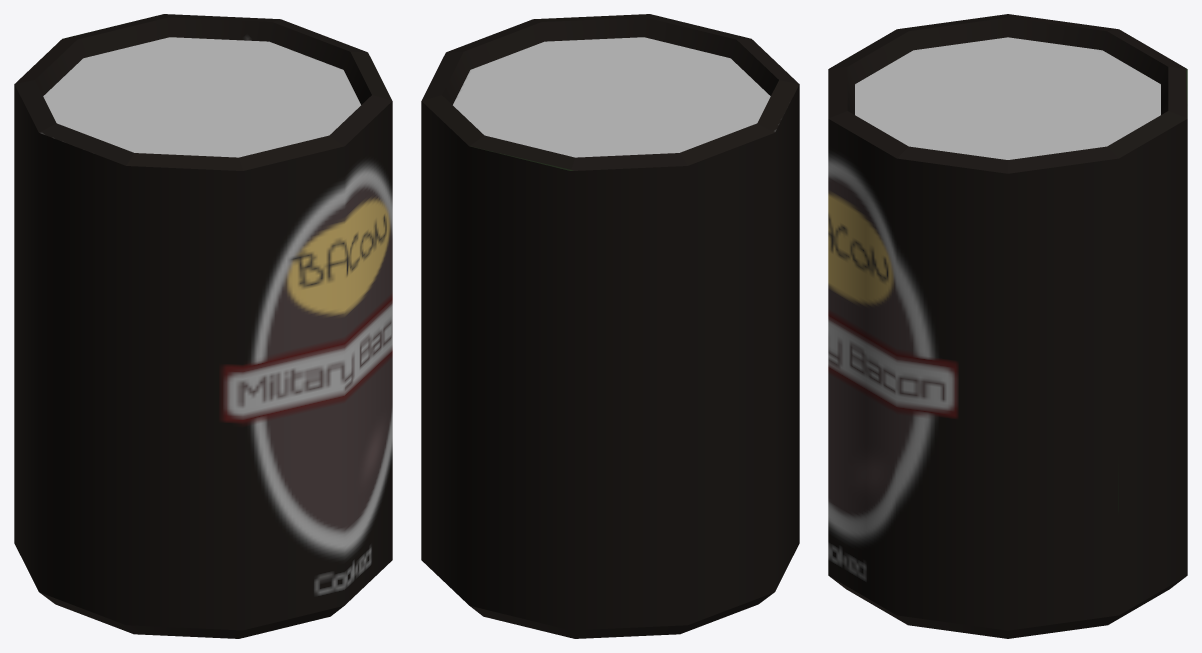
Rendered from Canned_02.fbx.
The picture shows the model from 3 angles, left to right: view 1: azimuth 30°, elevation 25°; view 2: azimuth 150°, elevation 25°; view 3: azimuth 270°, elevation 25°; orthographic projection.
Visible parts, largest first — view 1: Canned_02; view 2: Canned_02; view 3: Canned_02.
Part boxes in pixels (left/top/right/bottom): Canned_02: left=14, top=14, right=392, bottom=638; Canned_02: left=421, top=14, right=799, bottom=638; Canned_02: left=828, top=14, right=1187, bottom=638.
Size of the model in its own units: 12.34 by 17.22 by 11.74.
